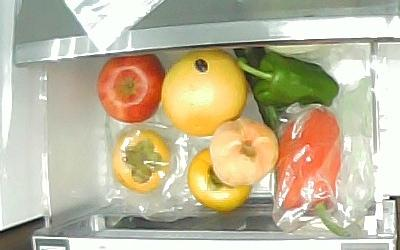apple: (96, 54, 165, 123)
cucumber: (234, 46, 289, 145)
grapefruit: (159, 49, 249, 136)
paprika: (236, 52, 341, 111)
paprika_vinyl: (275, 107, 350, 236)
peach: (210, 119, 278, 186)
persimmon: (187, 146, 252, 210)
persimmon_vinyl: (111, 126, 173, 192)
